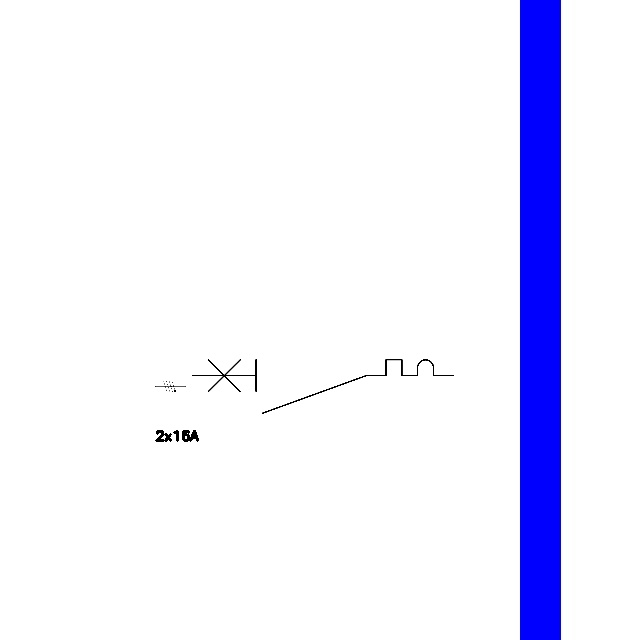interruptor_termomagnetico: (186, 353, 460, 420)
